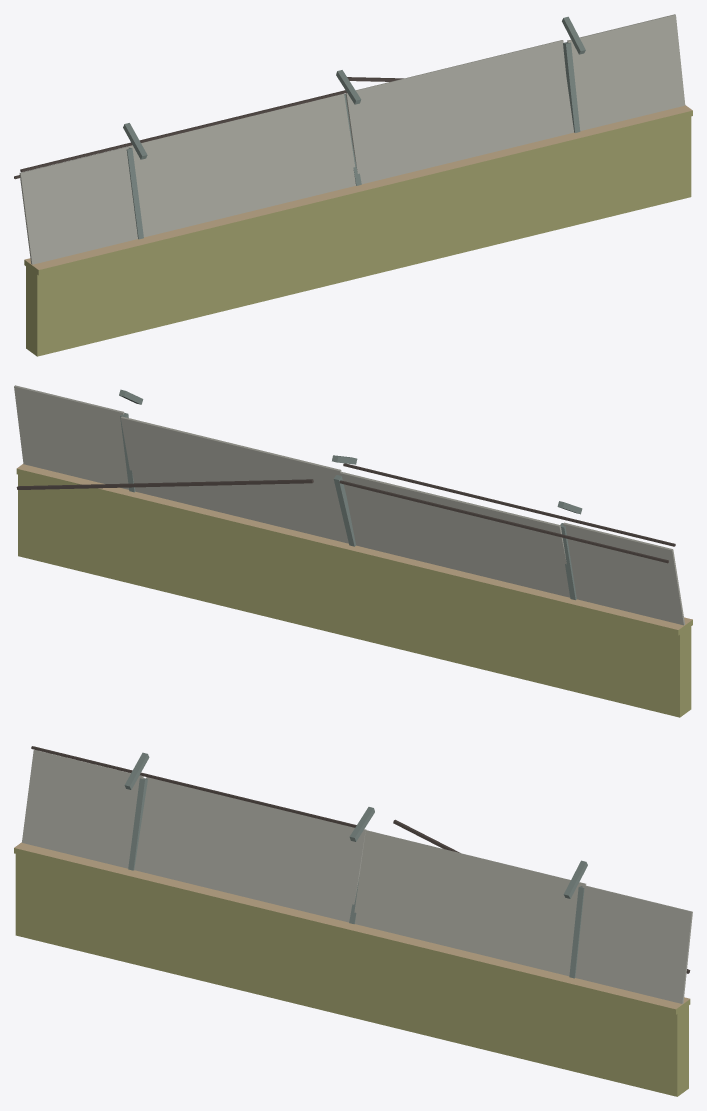
File: SM_VallaBetera_MuroBajo_e2_Danada_LOD0.fbx
The picture shows the model from 3 angles, top to bottom: view 1: azimuth 30°, elevation 25°; view 2: azimuth 150°, elevation 25°; view 3: azimuth 330°, elevation 25°; orthographic projection.
Parts seen in each view (by area): view 1: SM_valla_estados_v7_LOD0; view 2: SM_valla_estados_v7_LOD0; view 3: SM_valla_estados_v7_LOD0.
Boxes of the visible parts, x1,y1,x2,y2 form: SM_valla_estados_v7_LOD0: [14, 14, 692, 356]; SM_valla_estados_v7_LOD0: [14, 385, 692, 717]; SM_valla_estados_v7_LOD0: [14, 746, 692, 1096].
Size of the model in its own units: 10 by 2.84 by 1.01.
